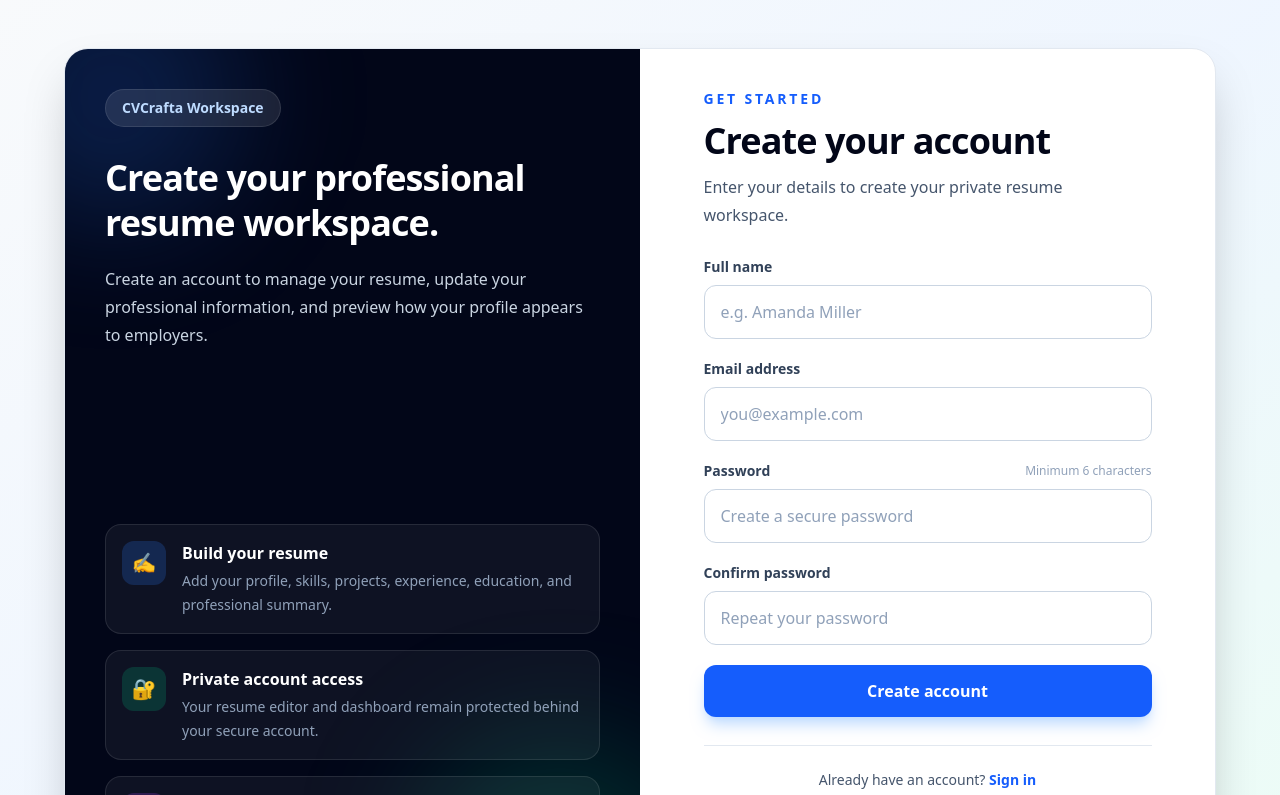
Test: RegisterPage › rejects a password containing fewer than six characters
In the field labelled "Full name": (928, 312) [704,285,1152,339], type "Test User"
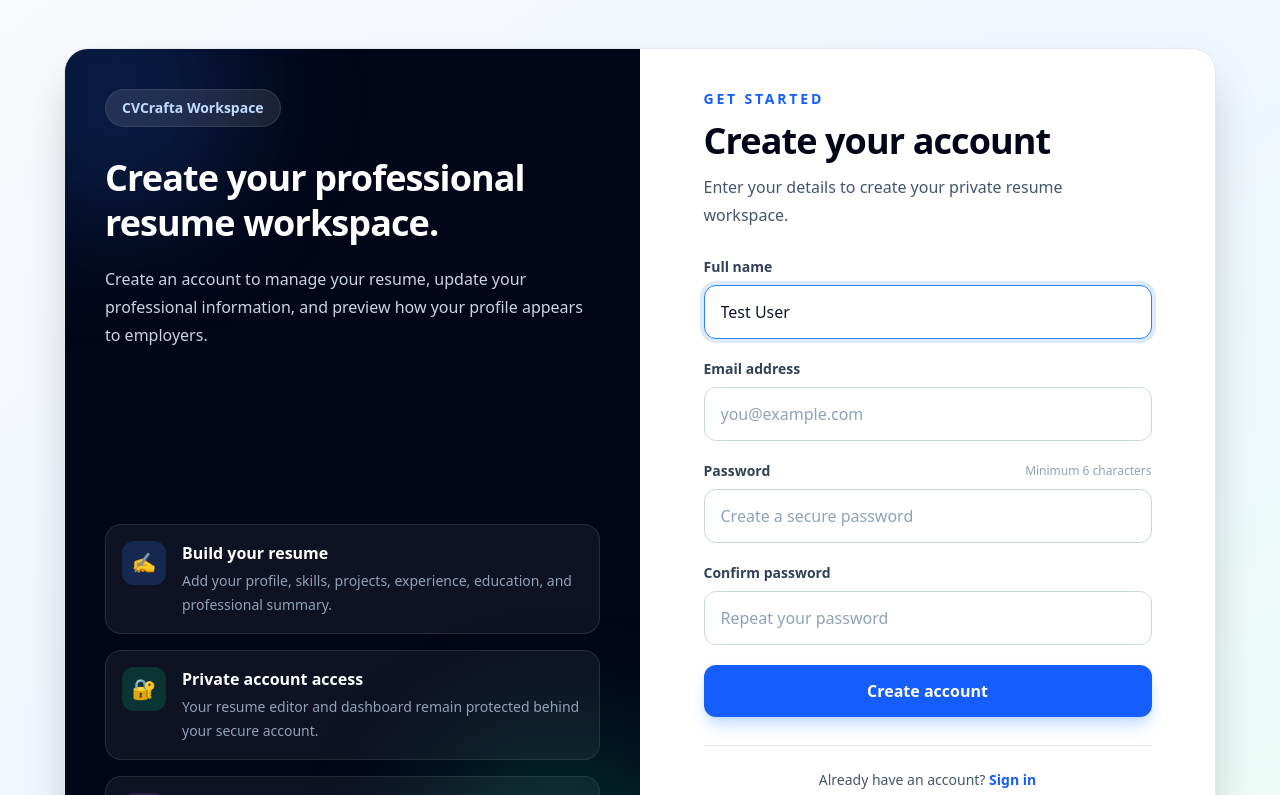
In the field labelled "Email address": (928, 414) [704,387,1152,441], type "user@example.com"
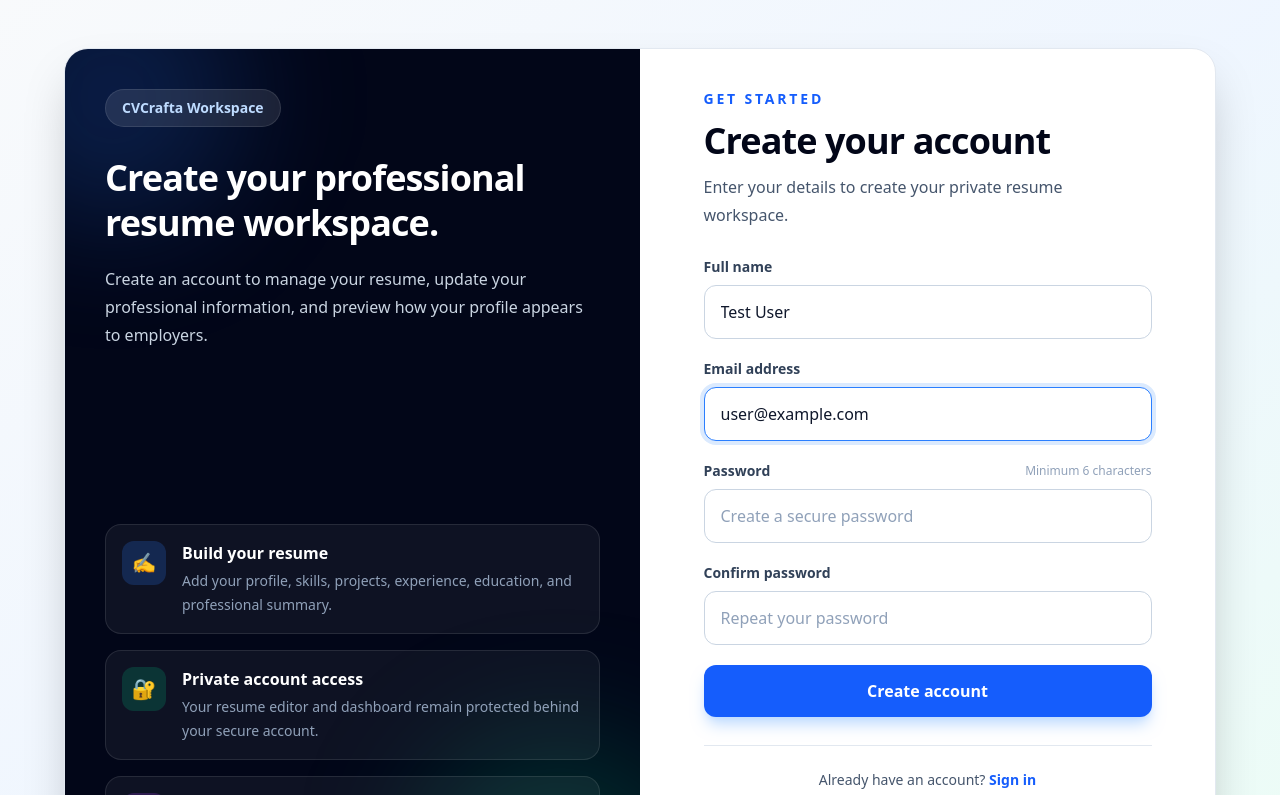
In the password field labelled "Password": (928, 516) [704,489,1152,543], type "12345"
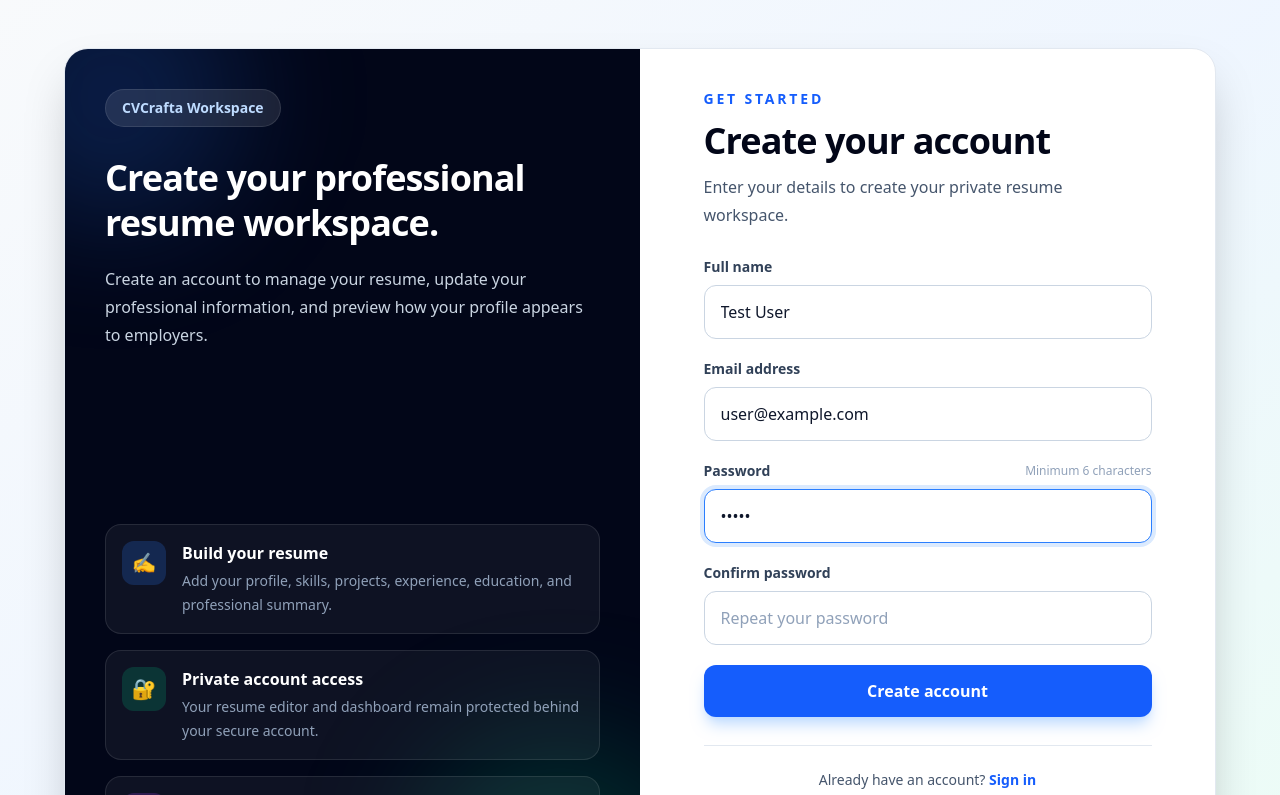
In the password field labelled "Confirm password": (928, 618) [704,591,1152,645], type "12345"
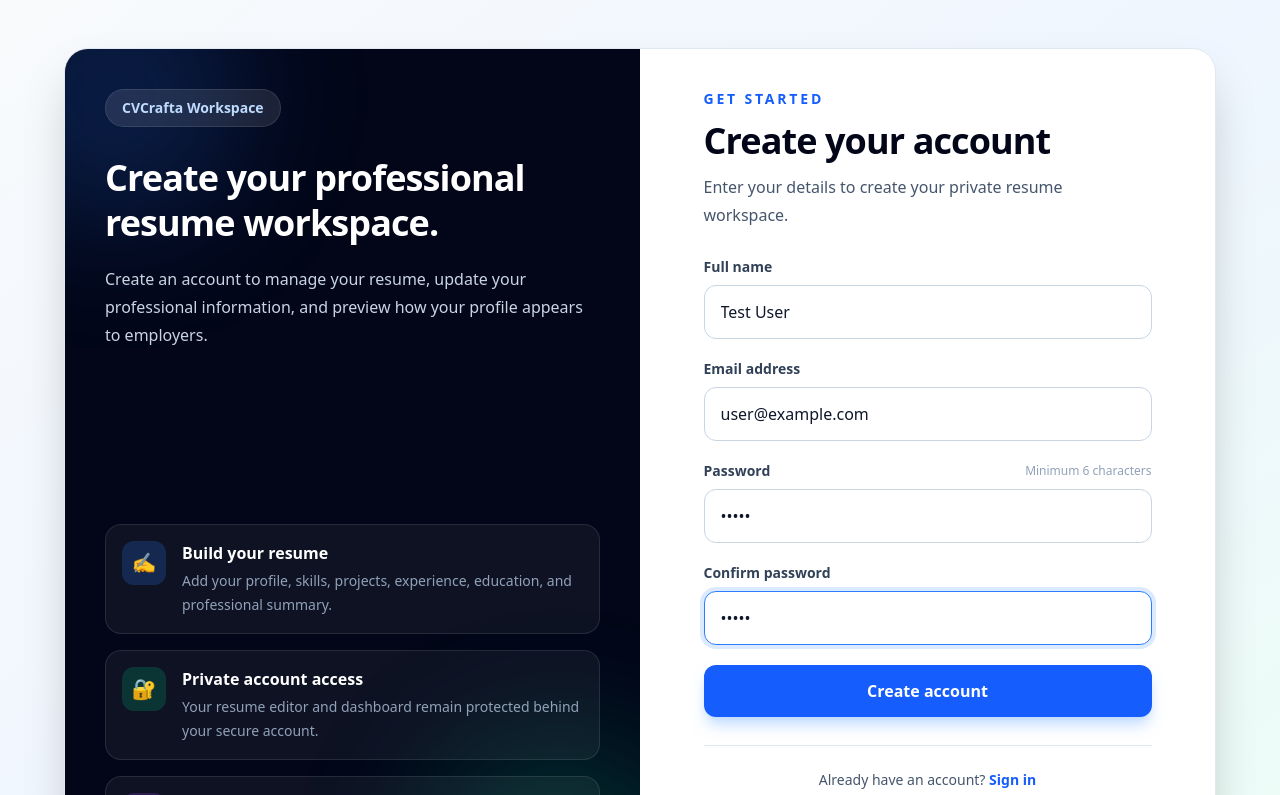
Submit the form named "Create account", box [704,257,1152,717]
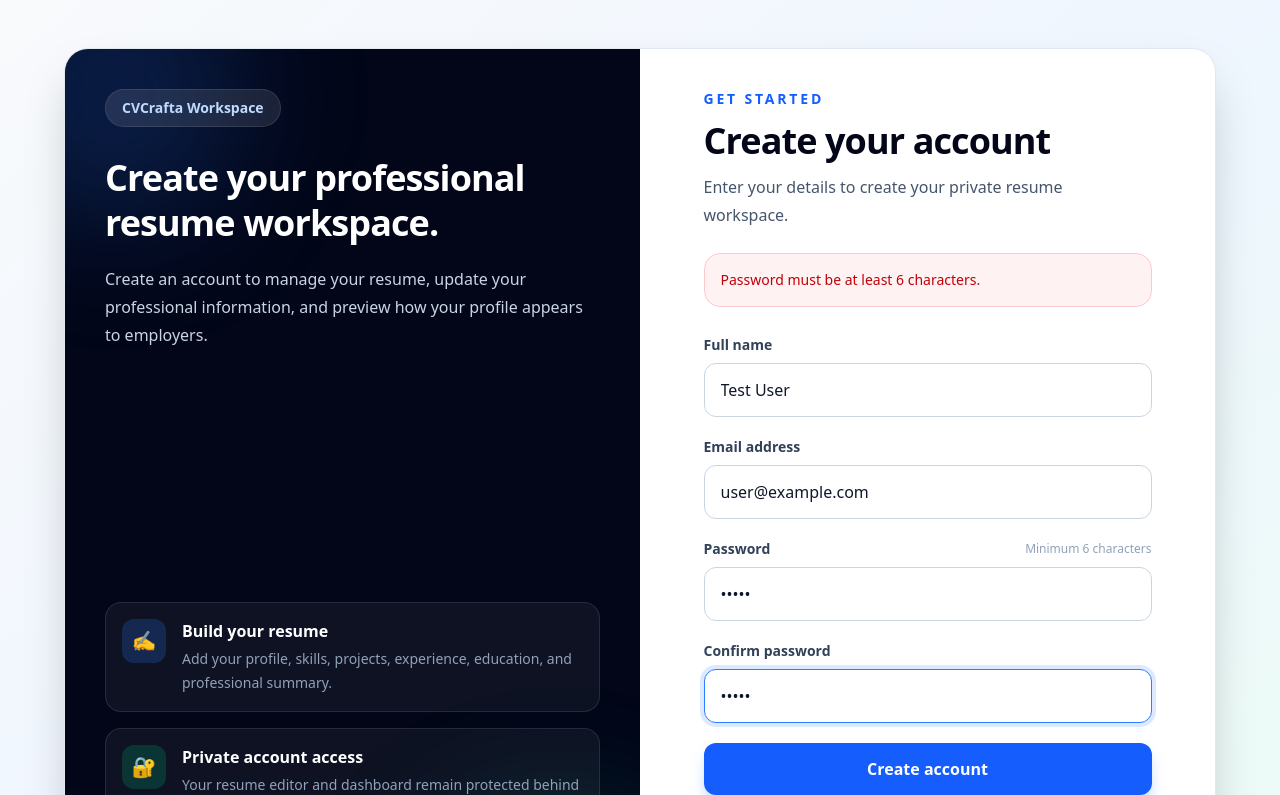
Check: the message reads "Password must be at least 6 characters.", box [720,270,980,289]
